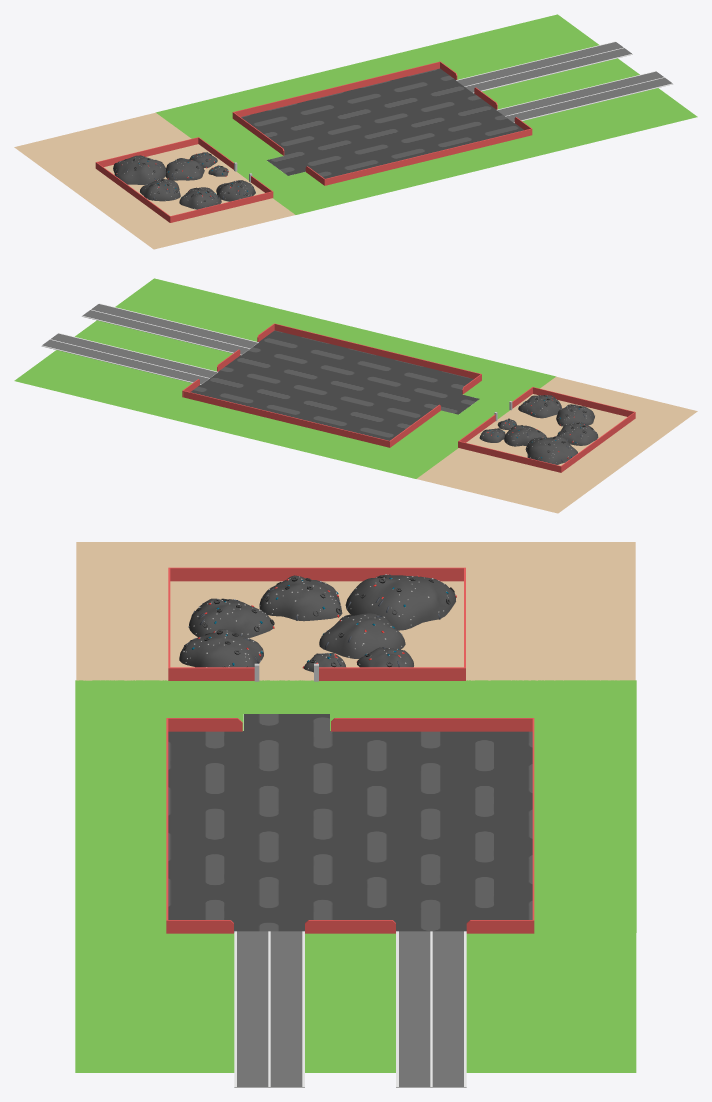
Rendered from Ground_L1.fbx.
3 views of the same model, one above another, from view 1: azimuth 30°, elevation 25°; view 2: azimuth 150°, elevation 25°; view 3: azimuth 270°, elevation 25° (orthographic). The views are drawn at different scales.
Parts seen in each view (by area): view 1: Plane.001, Plane, Plane.002, Cube.066, Cube.055, Cube.079, Cube.075, Garbage Pile 7, Cube.004, Garbage Pile 3, Garbage Pile 6, Garbage Pile 5 (+4 smaller); view 2: Plane.001, Plane, Plane.002, Cube.055, Cube.066, Cube.075, Cube.079, Garbage Pile 7, Cube.005, Garbage Pile 4, Cube.004, Garbage Pile 6 (+4 smaller); view 3: Plane.001, Plane, Plane.002, Cube.055, Cube.066, Garbage Pile 7, Cube.006, Garbage Pile 6, Cube.078, Garbage Pile 3, Garbage Pile 4, Garbage Pile 5 (+7 smaller).
Part boxes in pixels (bbox=[...]): Plane.001: bbox=[156, 14, 697, 214]; Plane: bbox=[241, 68, 523, 178]; Plane.002: bbox=[14, 112, 294, 249]; Cube.066: bbox=[456, 41, 632, 93]; Cube.055: bbox=[496, 71, 673, 122]; Cube.079: bbox=[325, 128, 531, 185]; Cube.075: bbox=[234, 61, 439, 116]; Garbage Pile 7: bbox=[113, 155, 165, 184]; Cube.004: bbox=[171, 191, 272, 222]; Garbage Pile 3: bbox=[165, 158, 204, 180]; Garbage Pile 6: bbox=[140, 178, 180, 201]; Garbage Pile 5: bbox=[179, 187, 221, 209]; Plane.001: bbox=[14, 278, 555, 478]; Plane: bbox=[190, 330, 479, 440]; Plane.002: bbox=[417, 376, 697, 513]; Cube.055: bbox=[81, 303, 258, 355]; Cube.066: bbox=[41, 333, 217, 384]; Cube.075: bbox=[183, 390, 389, 447]; Cube.079: bbox=[274, 323, 480, 378]; Garbage Pile 7: bbox=[525, 436, 577, 464]; Cube.005: bbox=[459, 441, 561, 472]; Garbage Pile 4: bbox=[518, 395, 562, 418]; Cube.004: bbox=[533, 387, 634, 416]; Garbage Pile 6: bbox=[557, 422, 598, 445]; Plane.001: bbox=[75, 680, 636, 1072]; Plane: bbox=[168, 714, 532, 932]; Plane.002: bbox=[76, 542, 635, 680]; Cube.055: bbox=[234, 931, 304, 1087]; Cube.066: bbox=[396, 931, 466, 1087]; Garbage Pile 7: bbox=[345, 574, 456, 630]; Cube.006: bbox=[168, 567, 463, 581]; Garbage Pile 6: bbox=[259, 575, 342, 621]; Cube.078: bbox=[331, 718, 534, 731]; Garbage Pile 3: bbox=[319, 613, 405, 658]; Garbage Pile 4: bbox=[179, 629, 263, 667]; Garbage Pile 5: bbox=[188, 598, 274, 638].
Size of the model in its own units: 27017 by 684 by 11738.
